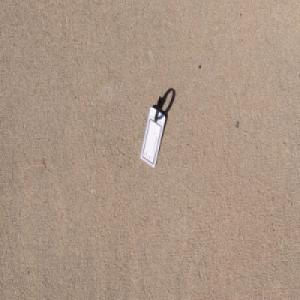LuggageTag: (139, 95, 165, 169)
